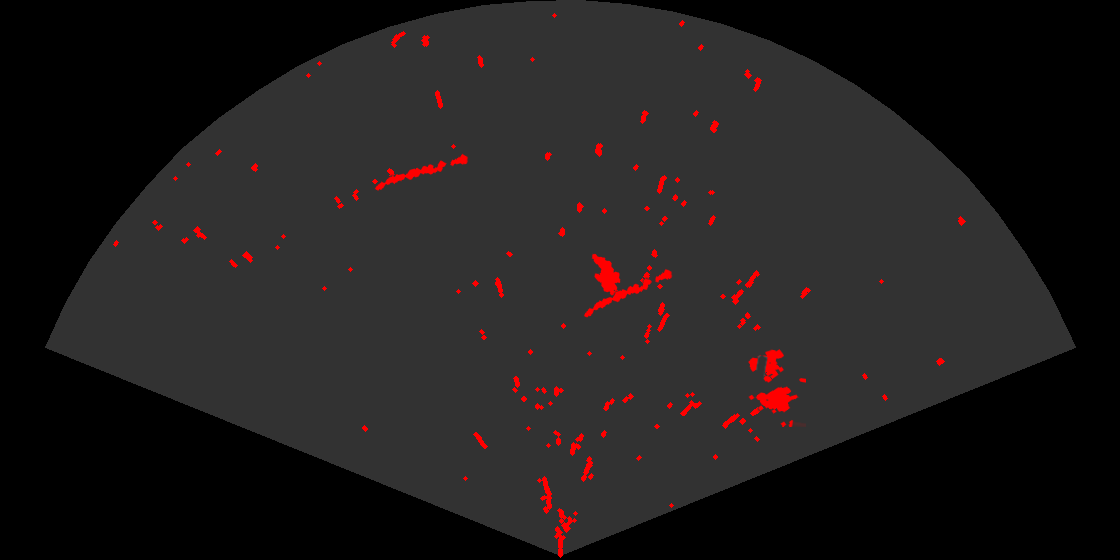AUV: (590, 252, 622, 297)
cage: (747, 348, 806, 427)
chain: (582, 268, 674, 319), (373, 152, 470, 192)
